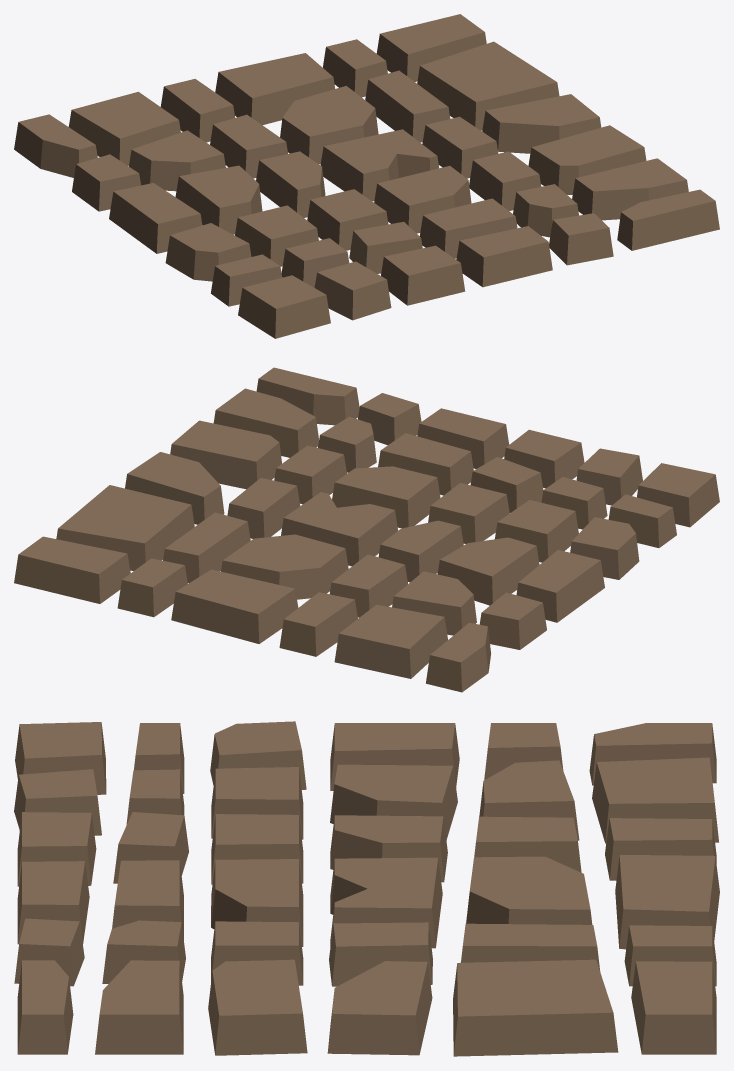
The model's file is LP_PostApoc_PavedFloor.fbx.
The picture shows the model from 3 angles, top to bottom: view 1: azimuth 30°, elevation 25°; view 2: azimuth 150°, elevation 25°; view 3: azimuth 270°, elevation 25°; orthographic projection. The views are drawn at different scales.
Visible parts, largest first — view 1: PavedFloor; view 2: PavedFloor; view 3: PavedFloor.
Boxes of the visible parts, <box> form: PavedFloor: <box>14,14,719,338</box>; PavedFloor: <box>14,367,719,692</box>; PavedFloor: <box>14,721,719,1056</box>.
Size of the model in its own units: 195 by 11.57 by 194.
